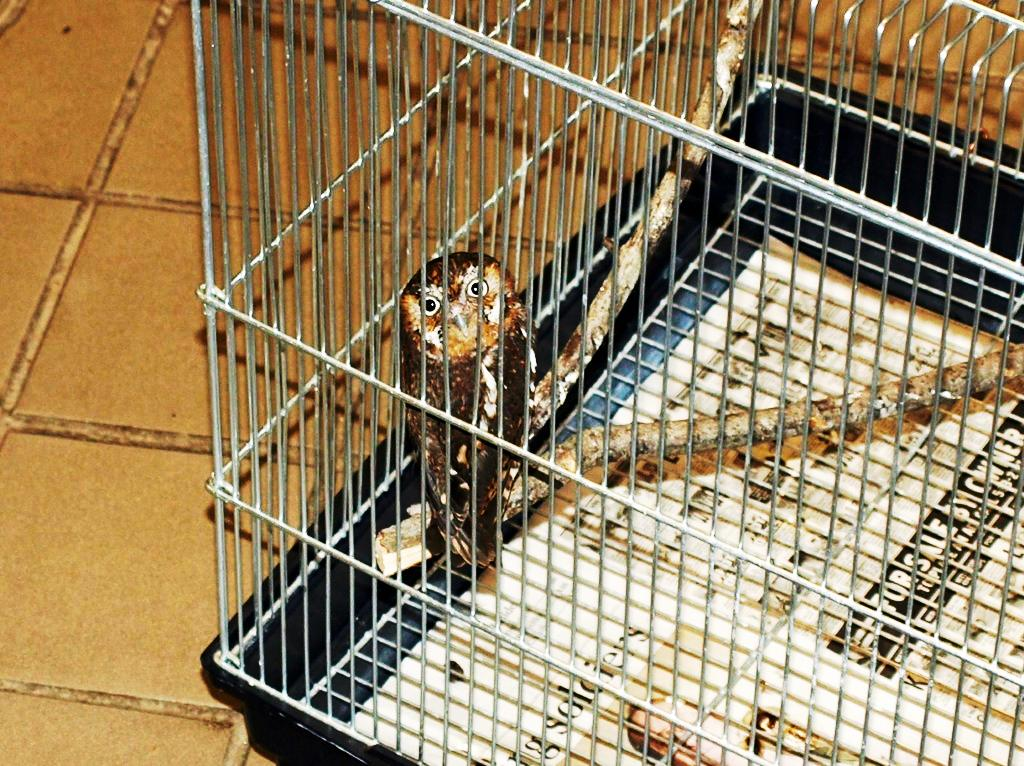Owl: (400, 253, 538, 573)
